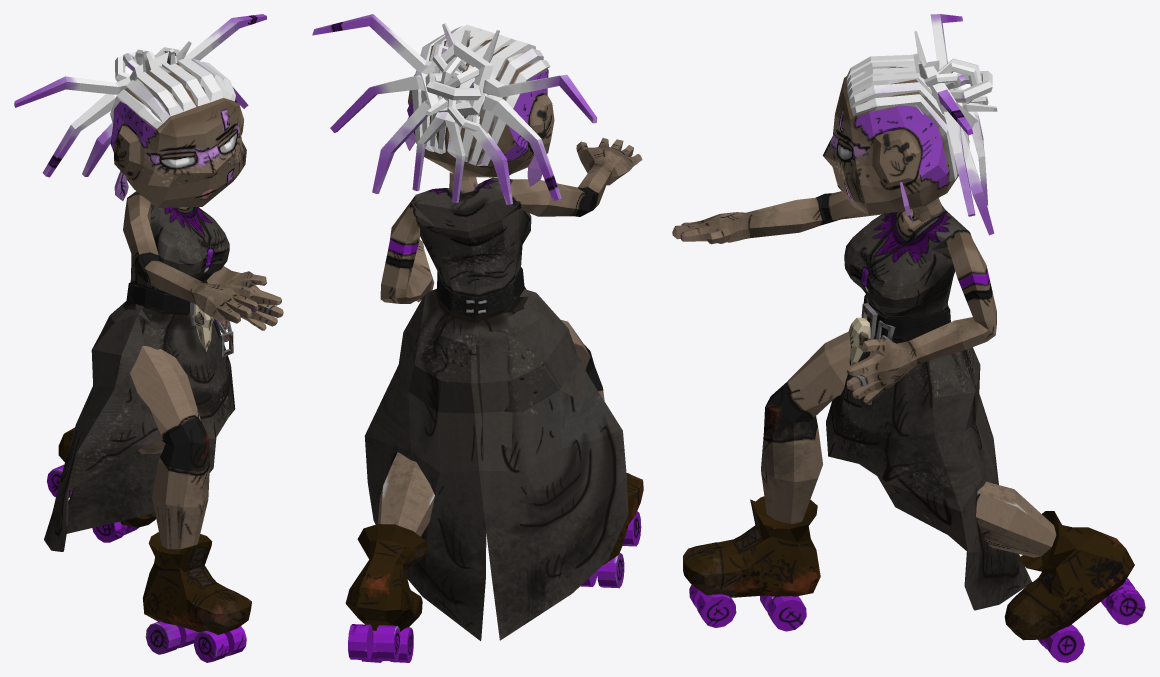
Rendered from bruja_000014.obj.
3 renders of one model, left to right at view 1: azimuth 30°, elevation 25°; view 2: azimuth 150°, elevation 25°; view 3: azimuth 270°, elevation 25°, orthographic. The views are drawn at different scales.
Parts seen in each view (by area): view 1: Bruja_Plane.001; view 2: Bruja_Plane.001; view 3: Bruja_Plane.001.
Boxes of the visible parts, x1,y1,x2,y2 form: Bruja_Plane.001: (14,14,283,662); Bruja_Plane.001: (312,14,643,662); Bruja_Plane.001: (672,14,1145,662).
Size of the model in its own units: 7.45 by 15.2 by 10.73.
